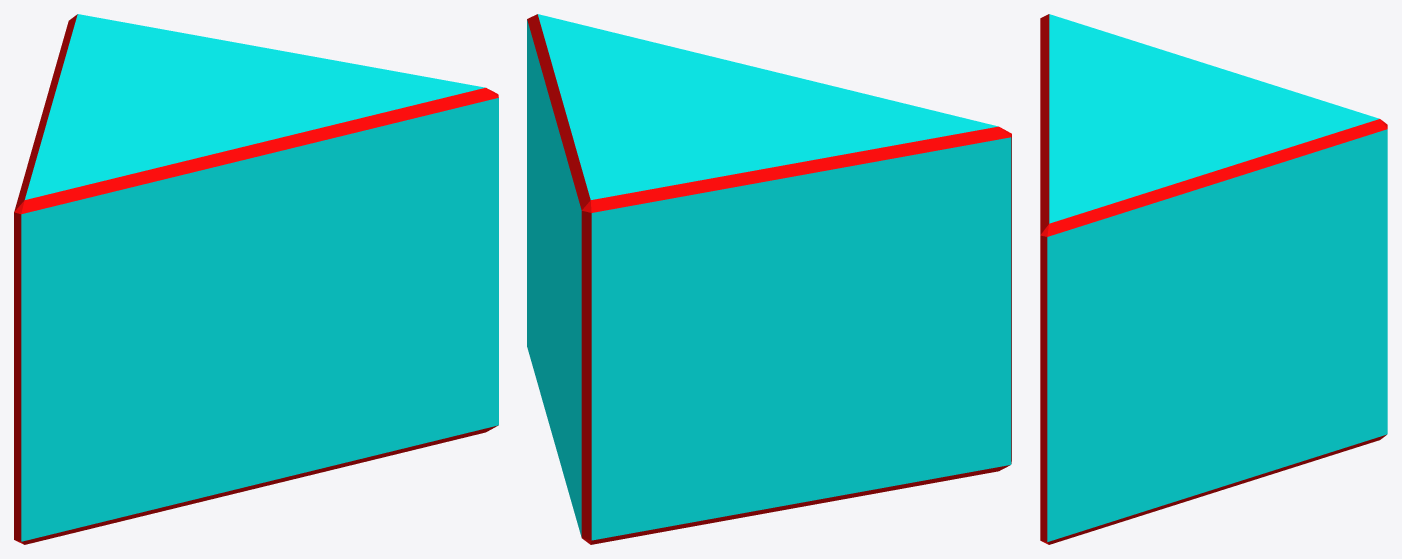
The model's file is L13_Prism_Platform.fbx.
3 views of the same model, side by side, from view 1: azimuth 30°, elevation 25°; view 2: azimuth 150°, elevation 25°; view 3: azimuth 270°, elevation 25° (orthographic). The views are drawn at different scales.
Parts seen in each view (by area): view 1: L13_Prism_Platform; view 2: L13_Prism_Platform; view 3: L13_Prism_Platform.
Boxes of the visible parts, left/top/right/bottom form: L13_Prism_Platform: left=14, top=14, right=498, bottom=544; L13_Prism_Platform: left=527, top=14, right=1011, bottom=544; L13_Prism_Platform: left=1040, top=14, right=1387, bottom=544.
Size of the model in its own units: 294 by 200 by 196.
